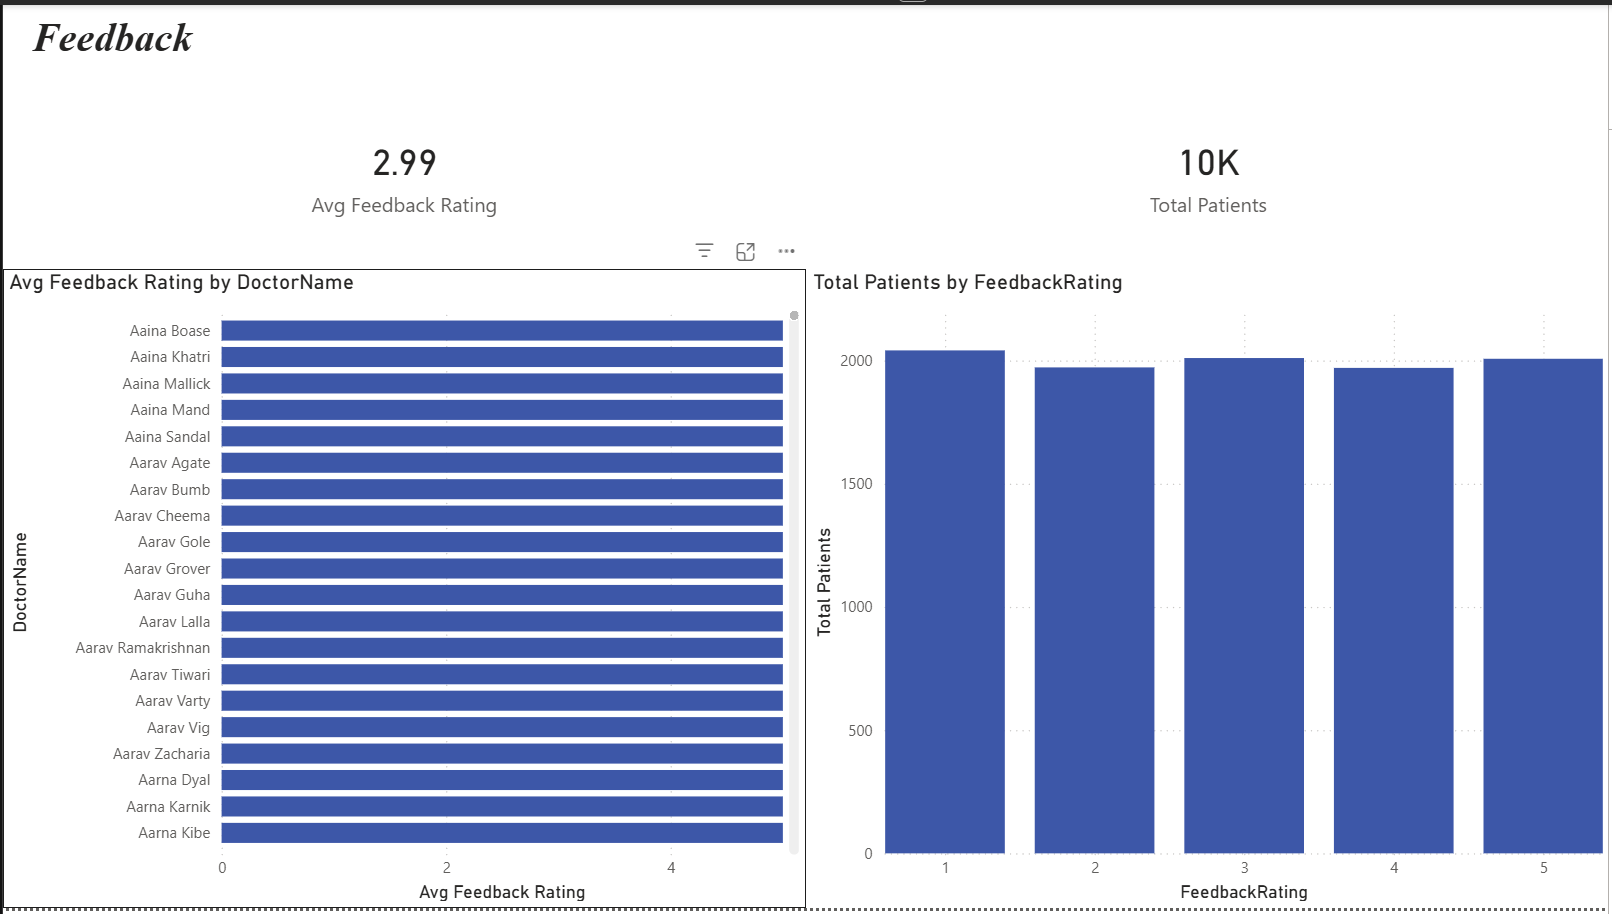

What the dashboard file says about the page in this screenshot:
{"tool":"powerbi","page":{"name":"Feedback","canvas":[1280,720],"ordinal":5},"visuals":[{"type":"textbox","box":[18.5,2.3,493.6,55.6],"z":0},{"type":"card","fields":{"Values":["_Measure.Avg Feedback Rating"]},"box":[0,57.9,639.6,153],"z":1000},{"type":"card","fields":{"Values":["_Measure.Total Patients"]},"box":[640.8,57.9,639.6,153],"z":2000},{"type":"barChart","fields":{"Y":["_Measure.Avg Feedback Rating"],"Category":["Doctor_Table.DoctorName"]},"box":[0,210.9,639.6,508.7],"z":3000},{"type":"columnChart","fields":{"Category":["Admission_Table.FeedbackRating"],"Y":["_Measure.Total Patients"]},"box":[640.8,210.9,639.6,508.7],"z":4000}]}

Visuals, with their boxes in screenshot pixels (x1, y1, x2, y2), scaled from the page's 1280x720 canvas onto the 1612x914 screenshot:
textbox: {"x1": 23, "y1": 3, "x2": 645, "y2": 74}
card - _Measure.Avg Feedback Rating: {"x1": 0, "y1": 74, "x2": 805, "y2": 268}
card - _Measure.Total Patients: {"x1": 807, "y1": 74, "x2": 1611, "y2": 268}
barChart - _Measure.Avg Feedback Rating x Doctor_Table.DoctorName: {"x1": 0, "y1": 268, "x2": 805, "y2": 913}
columnChart - Admission_Table.FeedbackRating x _Measure.Total Patients: {"x1": 807, "y1": 268, "x2": 1611, "y2": 913}
